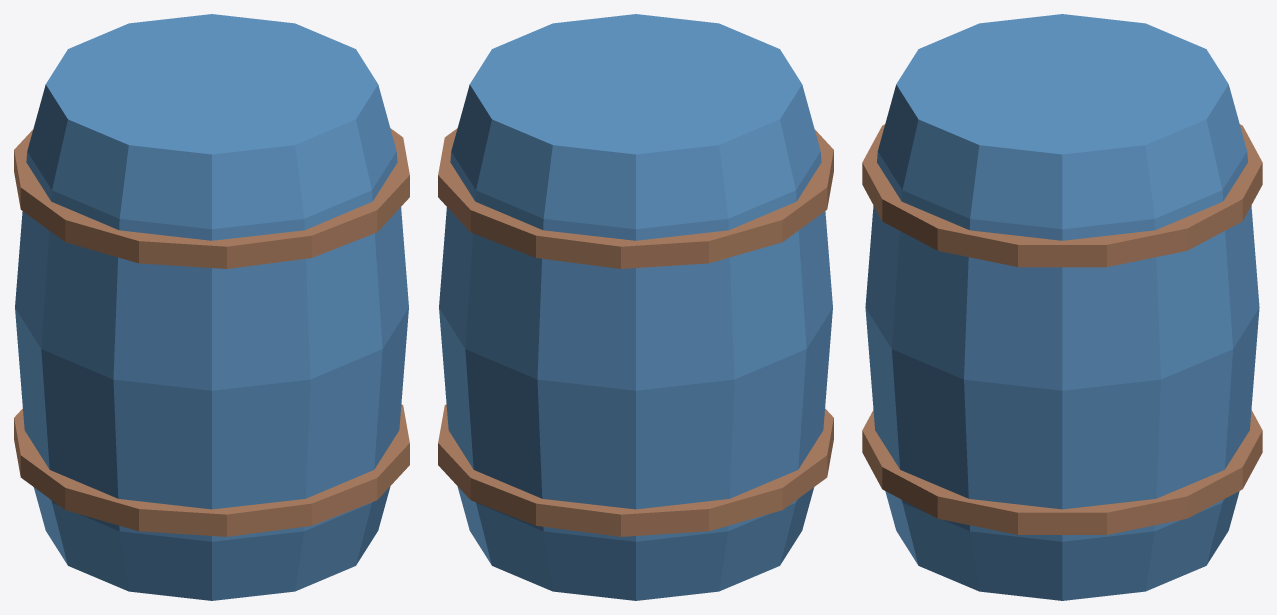
The model's file is barrel.glb.
The picture shows the model from 3 angles, left to right: view 1: azimuth 30°, elevation 25°; view 2: azimuth 150°, elevation 25°; view 3: azimuth 270°, elevation 25°; orthographic projection.
Visible parts, largest first — view 1: barrel; view 2: barrel; view 3: barrel.
Part boxes in pixels (left/top/right/bottom): barrel: left=14, top=14, right=409, bottom=600; barrel: left=438, top=14, right=833, bottom=600; barrel: left=862, top=14, right=1262, bottom=600.
Bounding box in the file's own units: 0.64 × 0.8 × 0.65.
